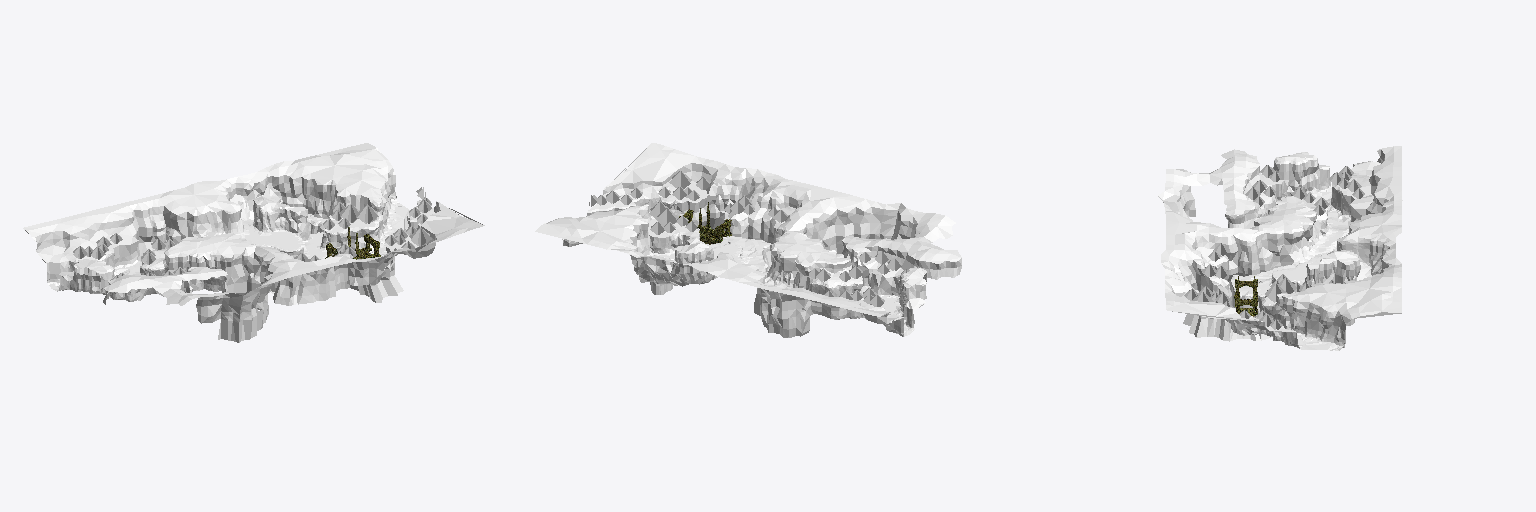
3 renders of one model, left to right at view 1: azimuth 30°, elevation 25°; view 2: azimuth 150°, elevation 25°; view 3: azimuth 270°, elevation 25°, orthographic.
Visible parts, largest first — view 1: Object.8, Object.7, Object.6, Object.5; view 2: Object.7, Object.8, Object.6, Object.5; view 3: Object.7, Object.8, Object.6, Object.5.
Boxes of the visible parts, x1=… form: Object.8: x1=35, y1=166, x2=440, y2=342; Object.7: x1=23, y1=143, x2=484, y2=305; Object.6: x1=73, y1=187, x2=431, y2=280; Object.5: x1=325, y1=227, x2=380, y2=259; Object.7: x1=535, y1=143, x2=961, y2=336; Object.8: x1=562, y1=163, x2=961, y2=337; Object.6: x1=589, y1=171, x2=920, y2=306; Object.5: x1=679, y1=202, x2=731, y2=244; Object.7: x1=1158, y1=146, x2=1402, y2=350; Object.8: x1=1163, y1=150, x2=1389, y2=348; Object.6: x1=1184, y1=165, x2=1364, y2=329; Object.5: x1=1234, y1=276, x2=1257, y2=316.
Size of the model in its own units: 303 by 50.56 by 186.
Materials: 9 (1 with a texture image).